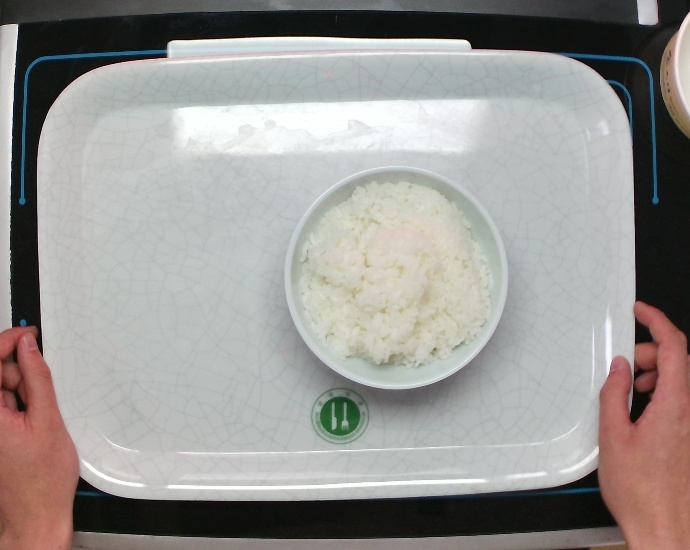JYsf-Fan_Wan: (279, 161, 511, 393)
